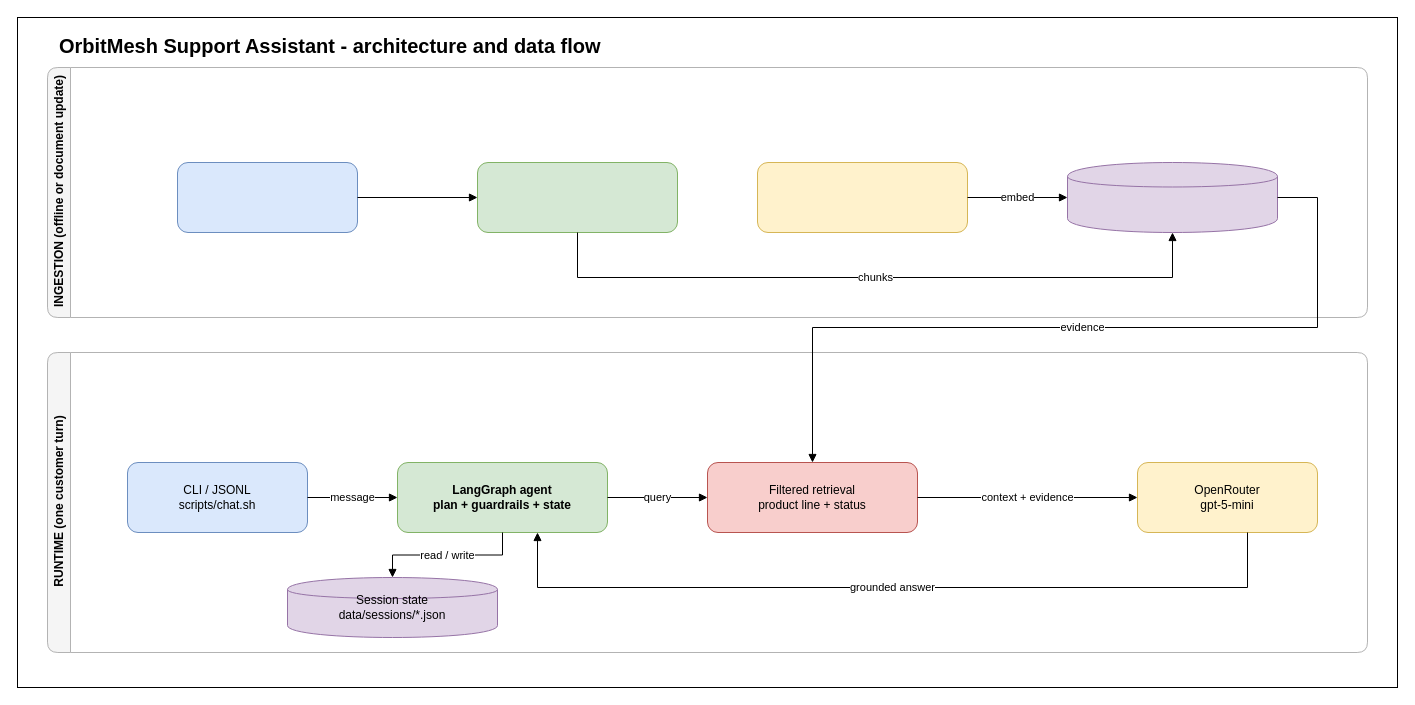
This 1415x705 diagram has some shape labels left out. Each missing label, with the centre of its shape:
Chroma vector + metadata store: the point at 1172,197
Corpus Markdown + manifest: the point at 267,197
Ingestion metadata + section chunks: the point at 577,197
OpenRouter text-embedding-3-small: the point at 862,197
